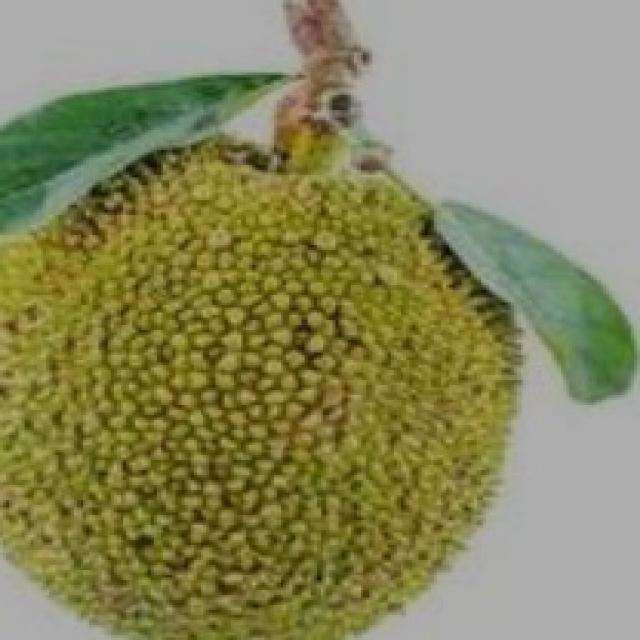Fruit: (0, 102, 406, 472), (0, 297, 387, 640), (271, 252, 578, 640)
